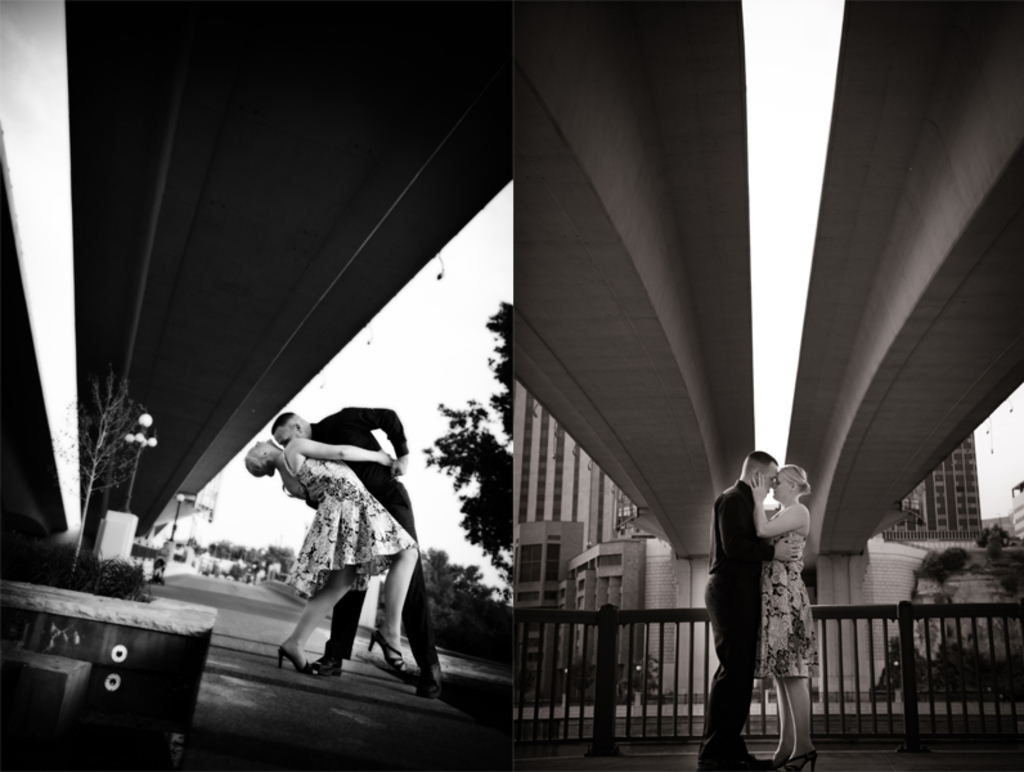Tree: (420, 293, 515, 598)
